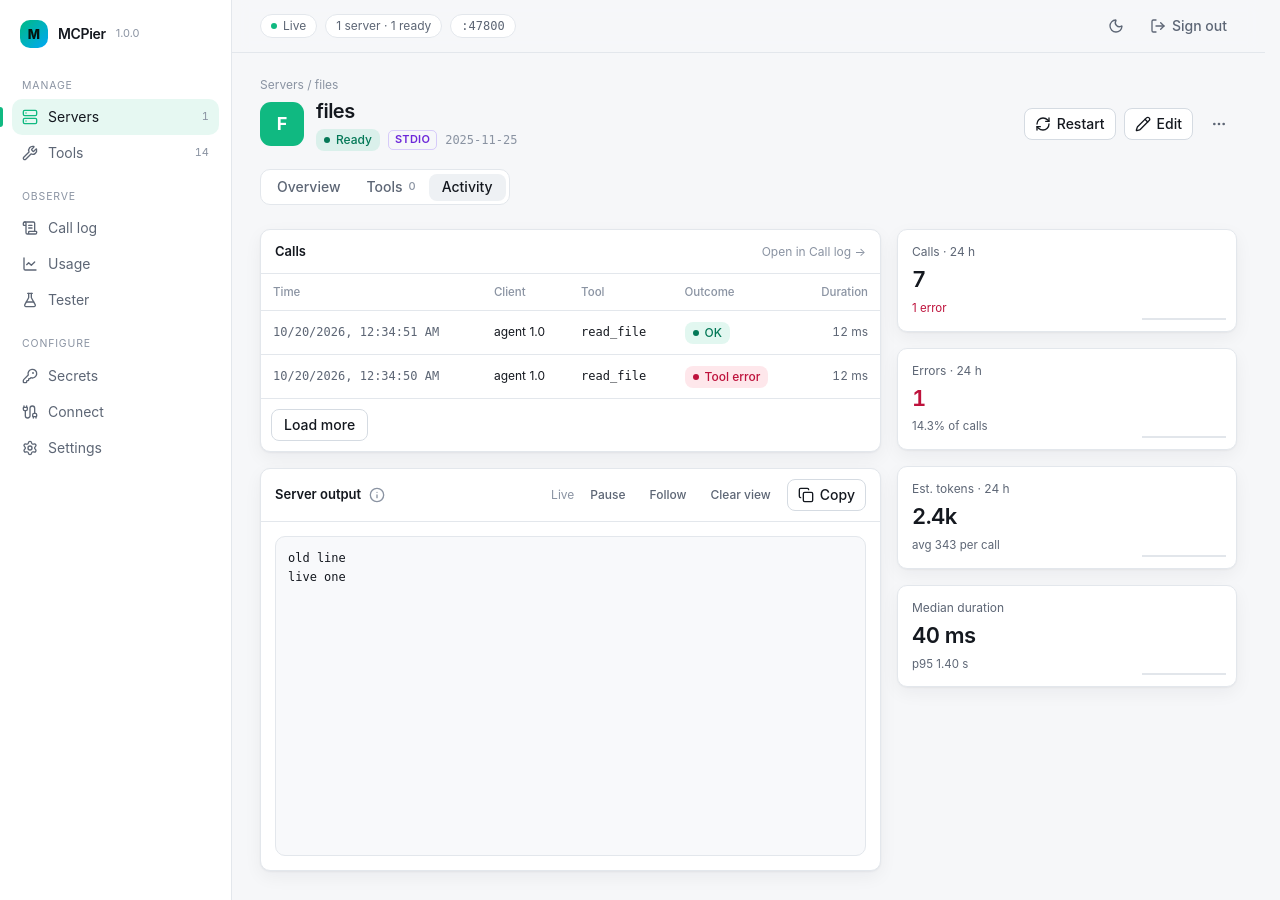
Scenario: Activity tab: server output › shows the last lines, then live ones; Pause holds new lines until Resume
The image size is (1280, 900).
Expected: the text named "files log" shows "old line", top-left (288, 550), bottom-right (346, 584)
Expected: the text named "files log" shows "live one", top-left (288, 550), bottom-right (346, 584)
Click the button "Pause": (608, 494) top-left (582, 482), bottom-right (634, 506)
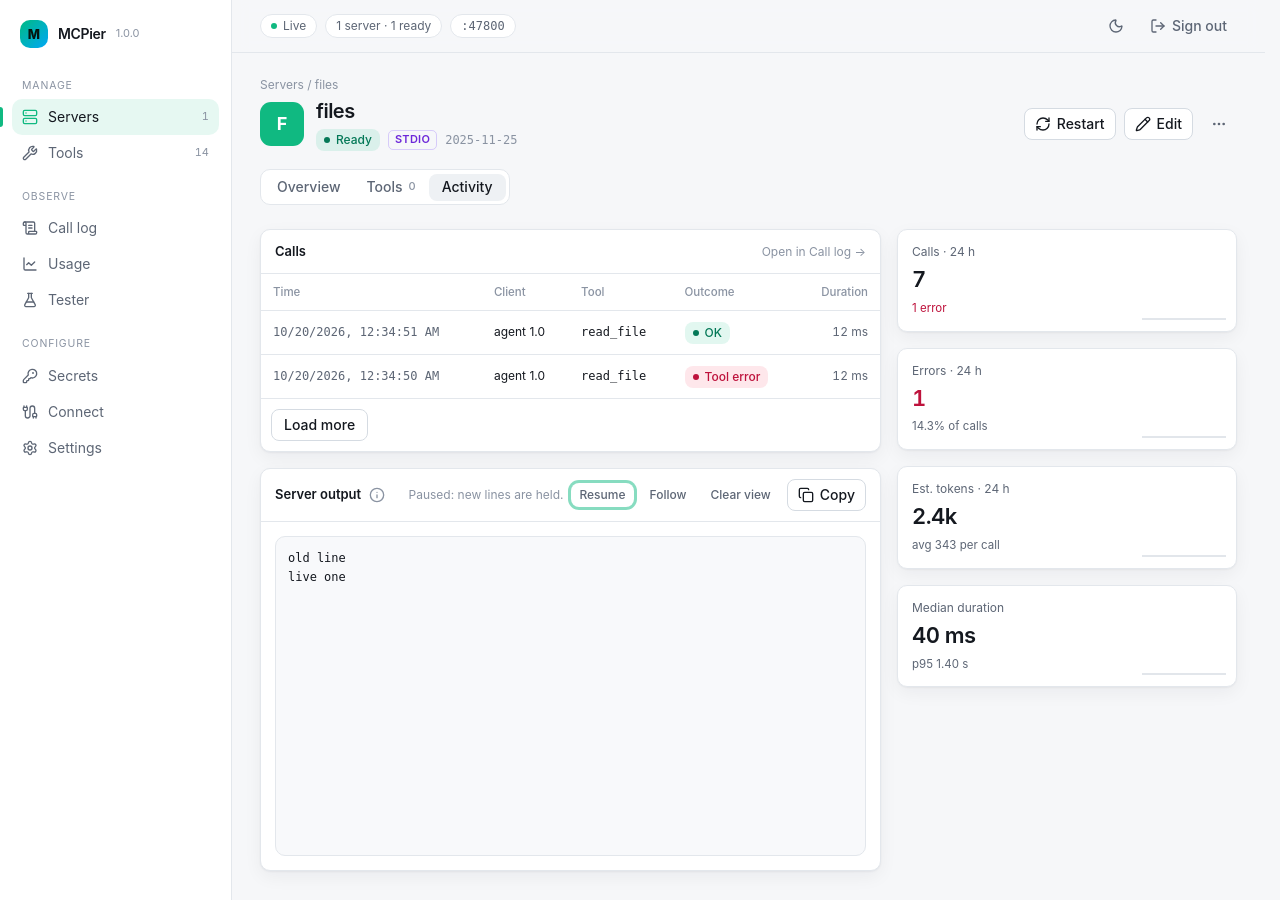
Expected: the text named "files log" does not show "held two", top-left (275, 536), bottom-right (866, 856)
Expected: the text "Paused: new lines are held." is shown, top-left (408, 486), bottom-right (563, 502)
Click the button "Resume": (603, 494) top-left (572, 482), bottom-right (634, 506)
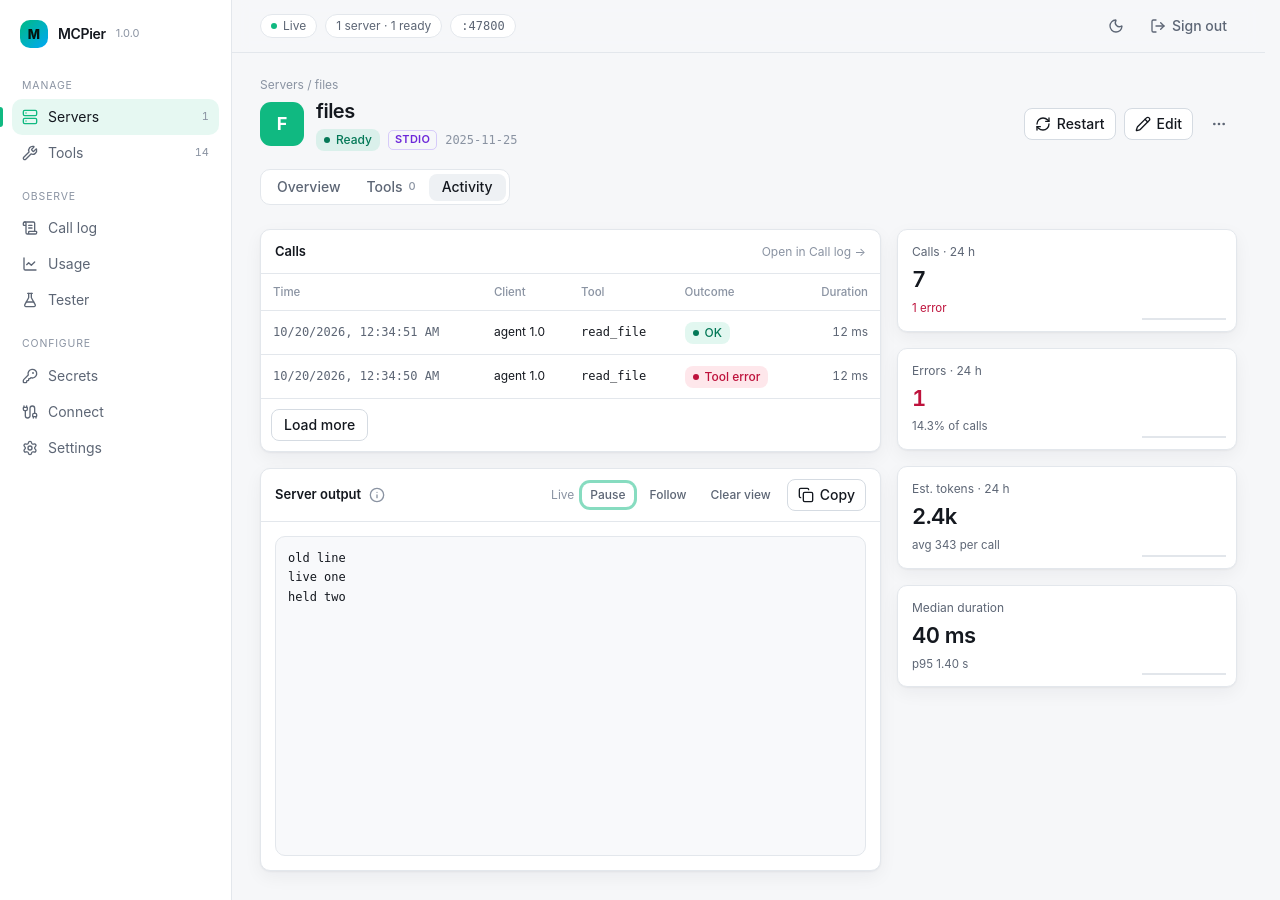
Expected: the text named "files log" shows "held two", top-left (288, 550), bottom-right (346, 604)
Expected: the message "Live" in the row of "Server output" is shown, top-left (551, 486), bottom-right (574, 502)
